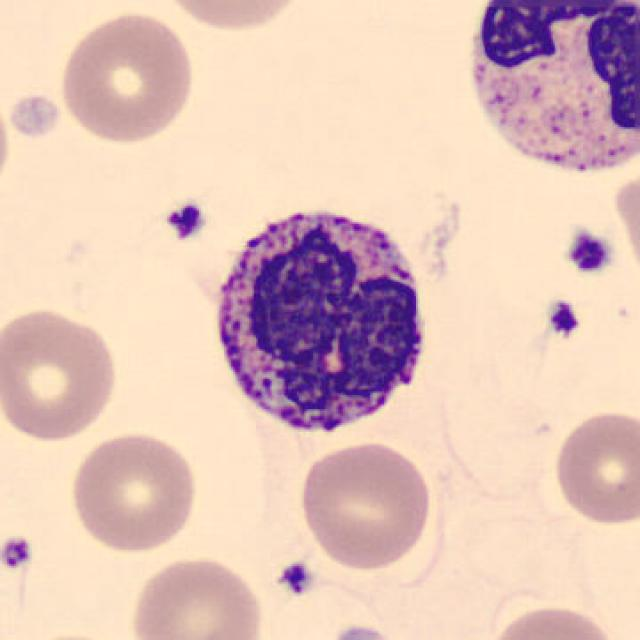Basophil: (201, 192, 441, 450)
Neutrophil: (446, 0, 640, 199)
Platelets: (11, 85, 62, 139), (564, 227, 615, 277), (162, 200, 210, 243), (542, 296, 583, 342), (320, 620, 402, 640), (274, 559, 316, 598), (0, 532, 37, 574)
RBC: (55, 7, 199, 146), (295, 437, 436, 573), (66, 427, 201, 555), (0, 304, 123, 444), (126, 552, 267, 640), (550, 404, 638, 529), (154, 0, 311, 35), (486, 601, 620, 640), (612, 166, 638, 280), (0, 79, 12, 204), (322, 622, 405, 640)
